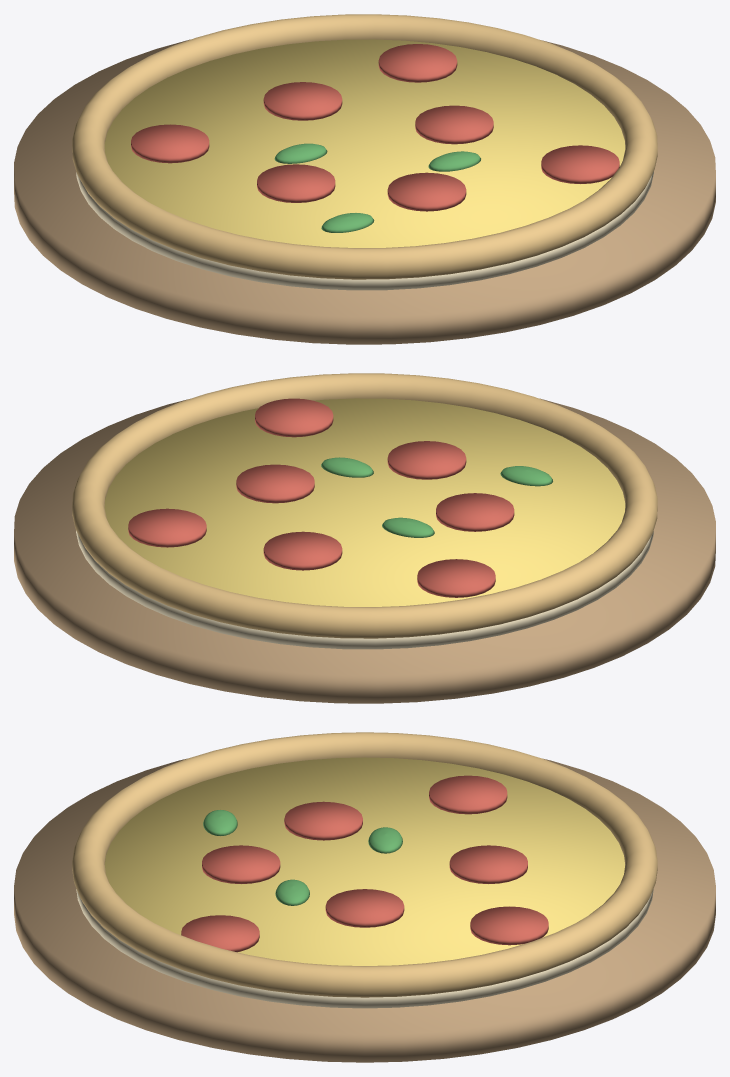
Rendered from pizza-teste.glb.
3 views of the same model, one above another, from view 1: azimuth 30°, elevation 25°; view 2: azimuth 150°, elevation 25°; view 3: azimuth 270°, elevation 25° (orthographic).
Parts seen in each view (by area): view 1: pizza-teste; view 2: pizza-teste; view 3: pizza-teste.
Boxes of the visible parts, x1,y1,x2,y2 form: pizza-teste: (14,14,715,344); pizza-teste: (14,373,715,703); pizza-teste: (14,732,715,1062).
Bounding box in the file's own units: 0.34 × 0.034 × 0.34.
